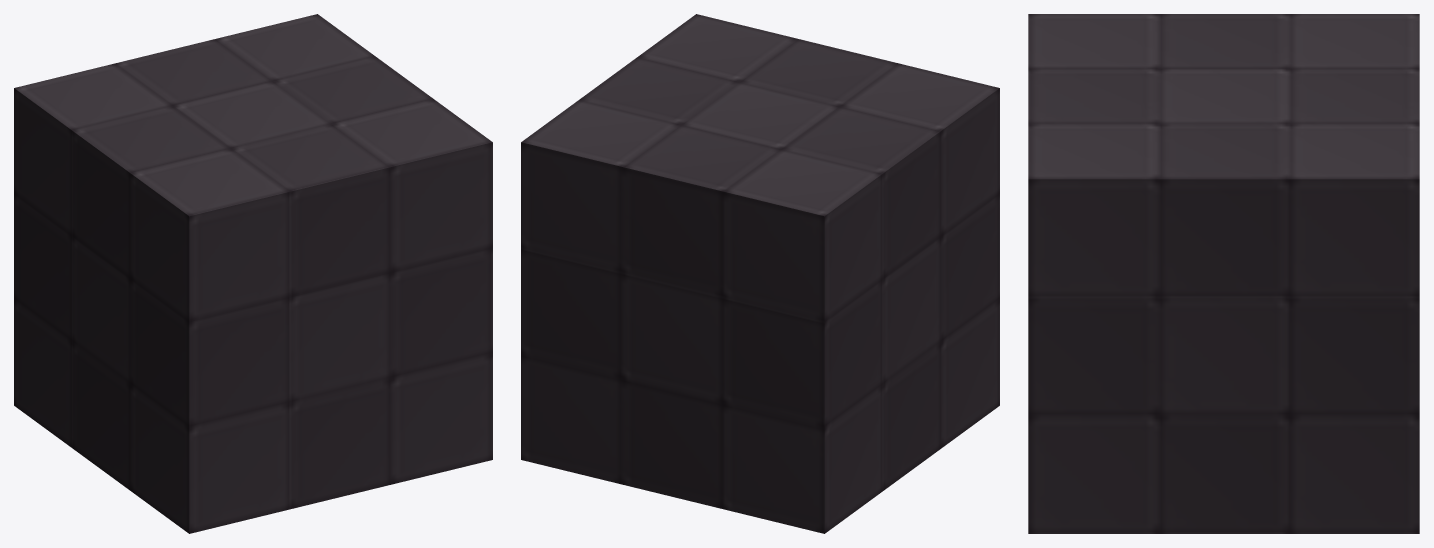
The model's file is ground_block_3x3x3.fbx.
3 renders of one model, left to right at view 1: azimuth 30°, elevation 25°; view 2: azimuth 150°, elevation 25°; view 3: azimuth 270°, elevation 25°, orthographic. The views are drawn at different scales.
Visible parts, largest first — view 1: ground_block_3x3x3; view 2: ground_block_3x3x3; view 3: ground_block_3x3x3.
Part boxes in pixels (left/top/right/bottom): ground_block_3x3x3: left=14, top=14, right=492, bottom=533; ground_block_3x3x3: left=521, top=14, right=999, bottom=533; ground_block_3x3x3: left=1028, top=14, right=1419, bottom=533.
Size of the model in its own units: 300 by 300 by 300.
